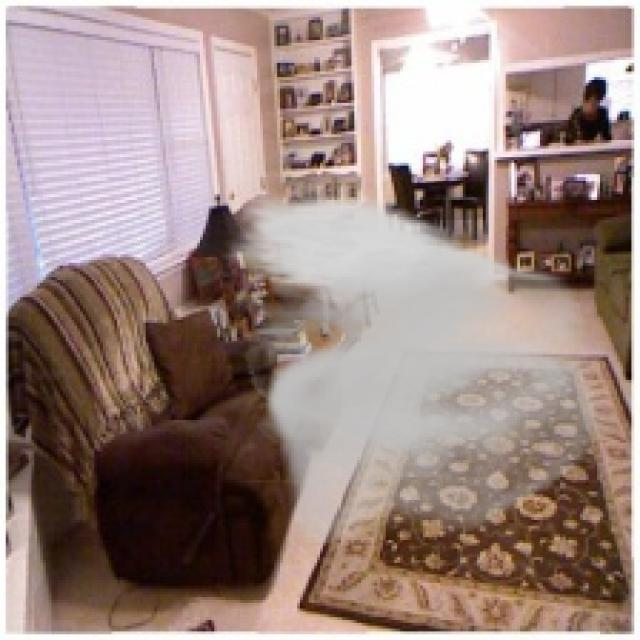Smoke: (220, 188, 614, 546)
